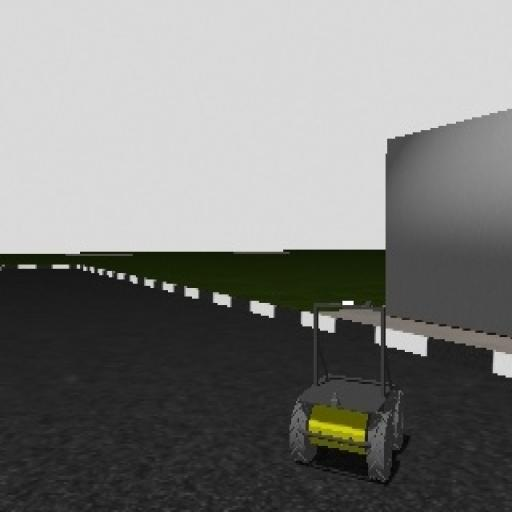huskya200: (282, 300, 408, 494)
